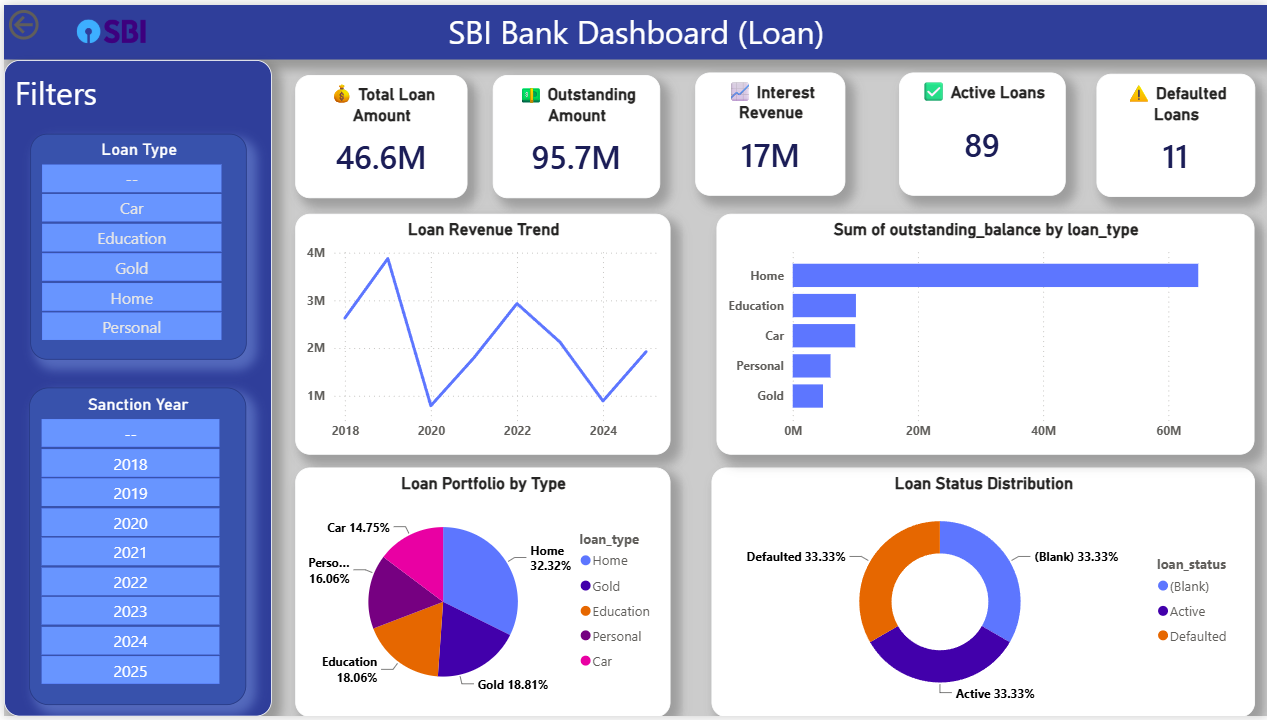

The page's visual inventory and layout, read from the dashboard file:
{"tool":"powerbi","page":{"name":"Dashboard 2 ","canvas":[1280,720],"ordinal":2},"visuals":[{"type":"textbox","box":[0,0,1280.3,54.9],"z":0},{"type":"group","id":"g1","title":"Group 1","box":[494.9,69,771.6,127.7],"z":0,"group":"g2"},{"type":"cardVisual","title":"💵 Outstanding Amount","fields":{"Data":["Sum(loan_analysis.outstanding_balance)"]},"box":[494.9,71.6,169.3,125.2],"z":0,"group":"g1"},{"type":"textbox","box":[0,55.2,271.2,665],"z":1000},{"type":"cardVisual","title":"⚠️ Defaulted Loans","fields":{"Data":["loan_analysis.Defaulted Loans"]},"box":[1106,70,160.5,124.9],"z":1000,"group":"g1"},{"type":"cardVisual","title":"💰 Total Loan Amount","fields":{"Data":["Sum(loan_analysis.total_amount_paid)"]},"box":[295,71.6,174.2,125.2],"z":1000,"group":"g2"},{"type":"group","id":"g2","title":"Group 2","box":[295,69,971.6,127.7],"z":2000},{"type":"cardVisual","title":"✅ Active Loans","fields":{"Data":["loan_analysis.Active Loans"]},"box":[906.5,69.2,168.8,124.9],"z":2000,"group":"g1"},{"type":"cardVisual","title":"📈 Interest Revenue","fields":{"Data":["loan_analysis.Interest Revenue"]},"box":[699.9,69,152.1,125.2],"z":3000,"group":"g1"},{"type":"donutChart","title":"Loan Status Distribution","fields":{"Category":["loan_analysis.loan_status"],"Y":["Customer_360.Total Balance"]},"box":[716.3,467.9,550.3,252.5],"z":3000},{"type":"clusteredBarChart","fields":{"Category":["loan_analysis.loan_type"],"Y":["Sum(loan_analysis.outstanding_balance)"]},"box":[721.8,211.3,544.8,244.3],"z":4000},{"type":"lineChart","title":"Loan Revenue Trend","fields":{"Y":["loan_analysis.Interest Revenue"],"Category":["loan_analysis.sanction_date.Variation.Date Hierarchy.Year"]},"box":[295,211.3,380.1,244.3],"z":5000},{"type":"pieChart","title":"Loan Portfolio by Type","fields":{"Y":["Sum(loan_analysis.loan_id)"],"Category":["loan_analysis.loan_type"]},"box":[295,467.9,380.1,252.5],"z":6000},{"type":"listSlicer","title":"Loan Type","fields":{"Values":["loan_analysis.loan_type"]},"box":[26.1,130.4,219.6,229.2],"z":7000},{"type":"listSlicer","title":"Sanction Year","fields":{"Values":["loan_analysis.sanction_date.Variation.Date Hierarchy.Year"]},"box":[25.8,387.7,219.6,321.5],"z":8000},{"type":"actionButton","box":[0,0,100,40],"z":9000},{"type":"image","box":[25.8,6.1,166.9,40.5],"z":10000}]}

Visuals, with their boxes in screenshot pixels (x1, y1, x2, y2), scaled from the page's 1280x720 canvas onto the 1267x720 screenshot:
textbox: Rect(0, 0, 1266, 55)
"Group 1" group: Rect(490, 69, 1254, 197)
"💵 Outstanding Amount" cardVisual: Rect(490, 72, 657, 197)
textbox: Rect(0, 55, 268, 719)
"⚠️ Defaulted Loans" cardVisual: Rect(1095, 70, 1254, 195)
"💰 Total Loan Amount" cardVisual: Rect(292, 72, 464, 197)
"Group 2" group: Rect(292, 69, 1254, 197)
"✅ Active Loans" cardVisual: Rect(897, 69, 1064, 194)
"📈 Interest Revenue" cardVisual: Rect(693, 69, 843, 194)
"Loan Status Distribution" donutChart: Rect(709, 468, 1254, 719)
clusteredBarChart - loan_analysis.loan_type x Sum(loan_analysis.outstanding_balance): Rect(714, 211, 1254, 456)
"Loan Revenue Trend" lineChart: Rect(292, 211, 668, 456)
"Loan Portfolio by Type" pieChart: Rect(292, 468, 668, 719)
"Loan Type" listSlicer: Rect(26, 130, 243, 360)
"Sanction Year" listSlicer: Rect(26, 388, 243, 709)
actionButton: Rect(0, 0, 99, 40)
image: Rect(26, 6, 191, 47)
